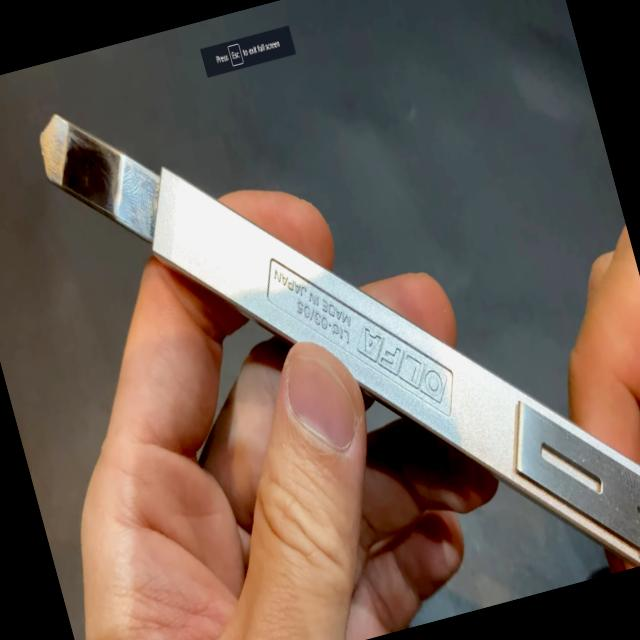cutter: (12, 77, 640, 640)
